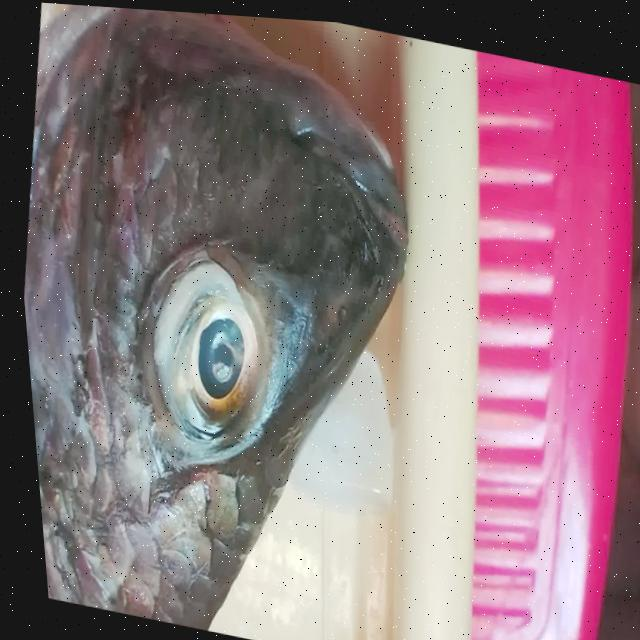Fresh: (113, 210, 302, 483)
